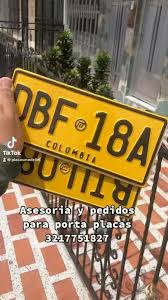placa_moto: (0, 68, 166, 189)
